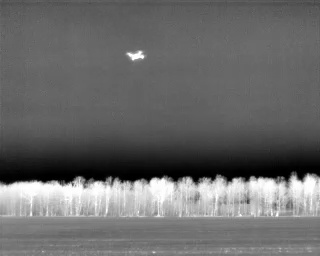DRONE: (123, 46, 150, 66)
